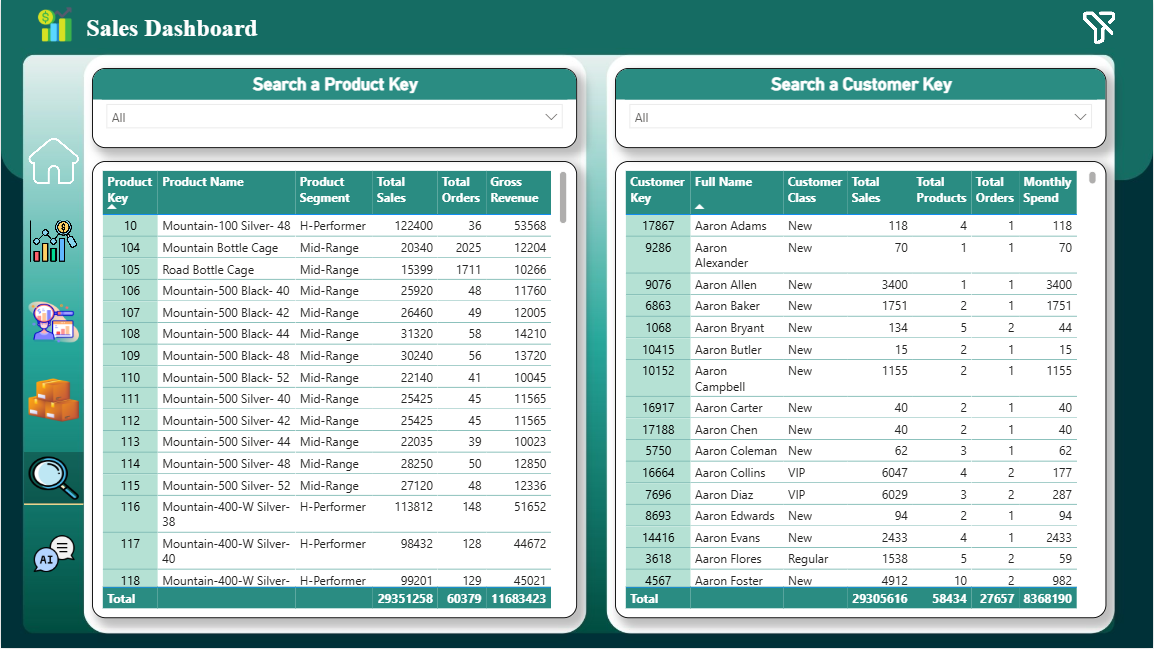

This screenshot's page, from the dashboard's own definition file:
{"tool":"powerbi","page":{"name":"Quick Search","canvas":[1280,720],"ordinal":4},"visuals":[{"type":"group","id":"g1","title":"Group 1","box":[27.8,0,270,54.4],"z":0},{"type":"textbox","title":"Sales Dashboard","box":[82.2,15.6,215.6,38.9],"z":0,"group":"g1"},{"type":"image","box":[27.8,0,63.3,54.4],"z":1000,"group":"g1"},{"type":"tableEx","fields":{"Values":["gold dim_customers.customer_key","gold dim_customers.Full Name","gold report_customers.customer_segment","gold fact_sales.sales_amount","gold fact_sales.quantity","gold report_customers.total_orders","gold report_customers.avg_monthly_spend"]},"box":[682,179,546,508],"z":1000},{"type":"tableEx","fields":{"Values":["gold dim_products.product_key","gold dim_products.product_name","gold report_products.product_segment","gold report_products.total_sales","gold report_products.total_orders","gold report_products.Revenue"]},"box":[101,179,539,508],"z":2000},{"type":"slicer","title":"Search a Customer Key","fields":{"Values":["gold report_customers.customer_key"]},"box":[682,75,546,89],"z":3000},{"type":"slicer","title":"Search a Product Key","fields":{"Values":["gold report_products.product_key"]},"box":[101,75,539,89],"z":4000},{"type":"image","box":[1191,8,58,46],"z":5000},{"type":"image","box":[25,328,66,60],"z":6000},{"type":"image","box":[25,416,66,58],"z":7000},{"type":"shape","box":[25,551,66,18],"z":8000},{"type":"image","box":[25,502,66,58],"z":9000},{"type":"image","box":[25,587,66,57],"z":10000},{"type":"image","box":[25,148,66,62],"z":11000},{"type":"image","box":[25,240,66,56],"z":12000}]}

Visuals, with their boxes in screenshot pixels (x1, y1, x2, y2), scaled from the page's 1280x720 canvas onto the 1154x649 screenshot:
"Group 1" group: bbox(25, 0, 268, 49)
"Sales Dashboard" textbox: bbox(74, 14, 268, 49)
image: bbox(25, 0, 82, 49)
tableEx - gold dim_customers.customer_key x gold dim_customers.Full Name: bbox(615, 161, 1107, 619)
tableEx - gold dim_products.product_key x gold dim_products.product_name: bbox(91, 161, 577, 619)
"Search a Customer Key" slicer: bbox(615, 68, 1107, 148)
"Search a Product Key" slicer: bbox(91, 68, 577, 148)
image: bbox(1074, 7, 1126, 49)
image: bbox(23, 296, 82, 350)
image: bbox(23, 375, 82, 427)
shape: bbox(23, 497, 82, 513)
image: bbox(23, 452, 82, 505)
image: bbox(23, 529, 82, 580)
image: bbox(23, 133, 82, 189)
image: bbox(23, 216, 82, 267)
